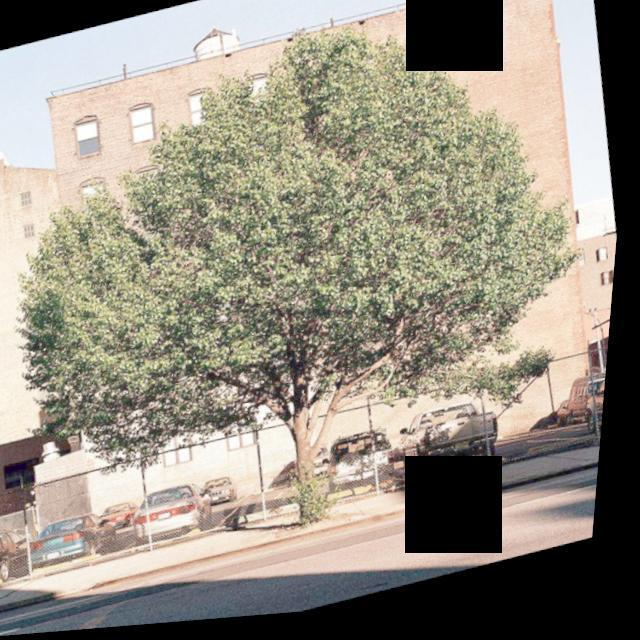Tree: (1, 1, 640, 603)
